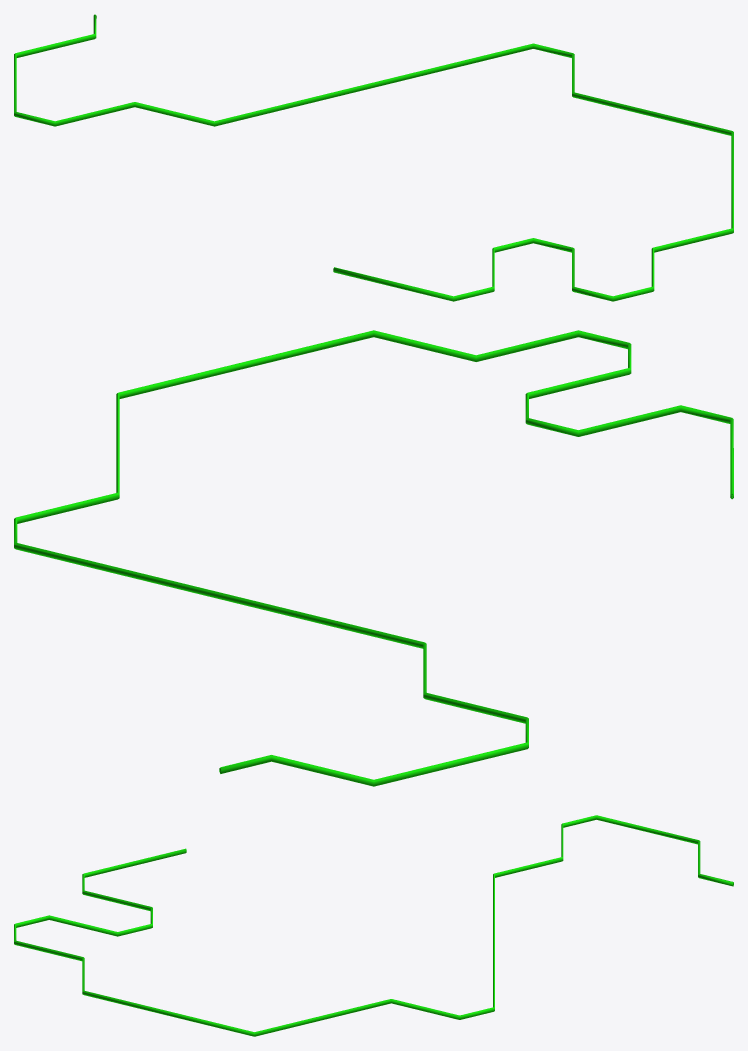
Rendered from maze3_sol.fbx.
3 views of the same model, one above another, from view 1: azimuth 30°, elevation 25°; view 2: azimuth 150°, elevation 25°; view 3: azimuth 270°, elevation 25° (orthographic). The views are drawn at different scales.
Visible parts, largest first — view 1: Curve.086; view 2: Curve.086; view 3: Curve.086.
Part boxes in pixels (box(x1,y1,x2,y2)): Curve.086: box(14, 14, 733, 301); Curve.086: box(14, 330, 733, 786); Curve.086: box(14, 815, 733, 1036).
Bounding box in the file's own units: 1014 × 10 × 1415.
